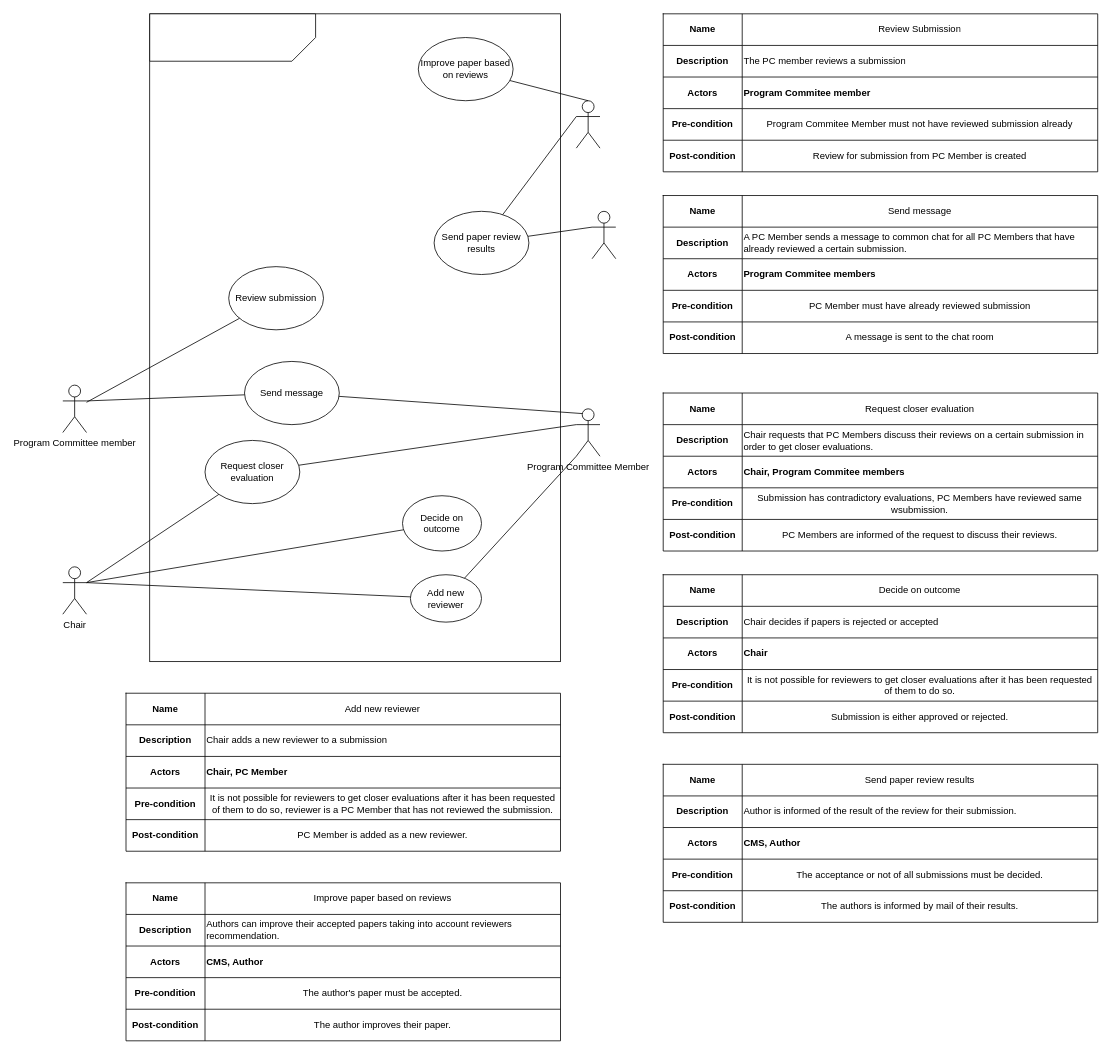
Image size: 1112x1055. Some labels were removed from this diagram. Each missing label, with the centre of its shape:
"Author" goes at point (588, 124).
"CMS" goes at point (603, 235).
"CMS-Review Management" goes at point (232, 37).
